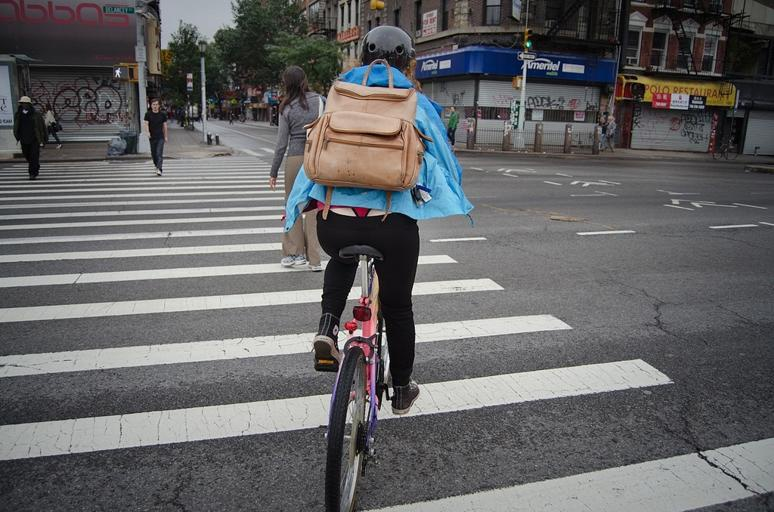non-vehicle: (325, 243, 393, 510), (711, 134, 739, 160), (598, 132, 614, 151)
